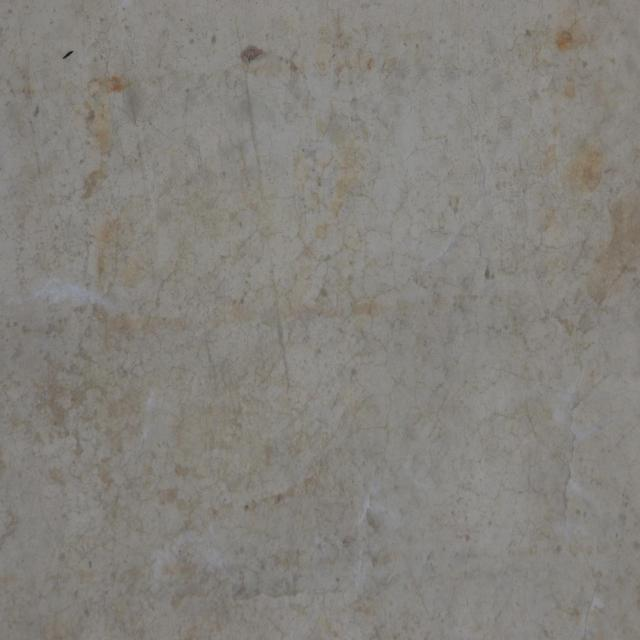multi-branched crack: (471, 298, 604, 638)
